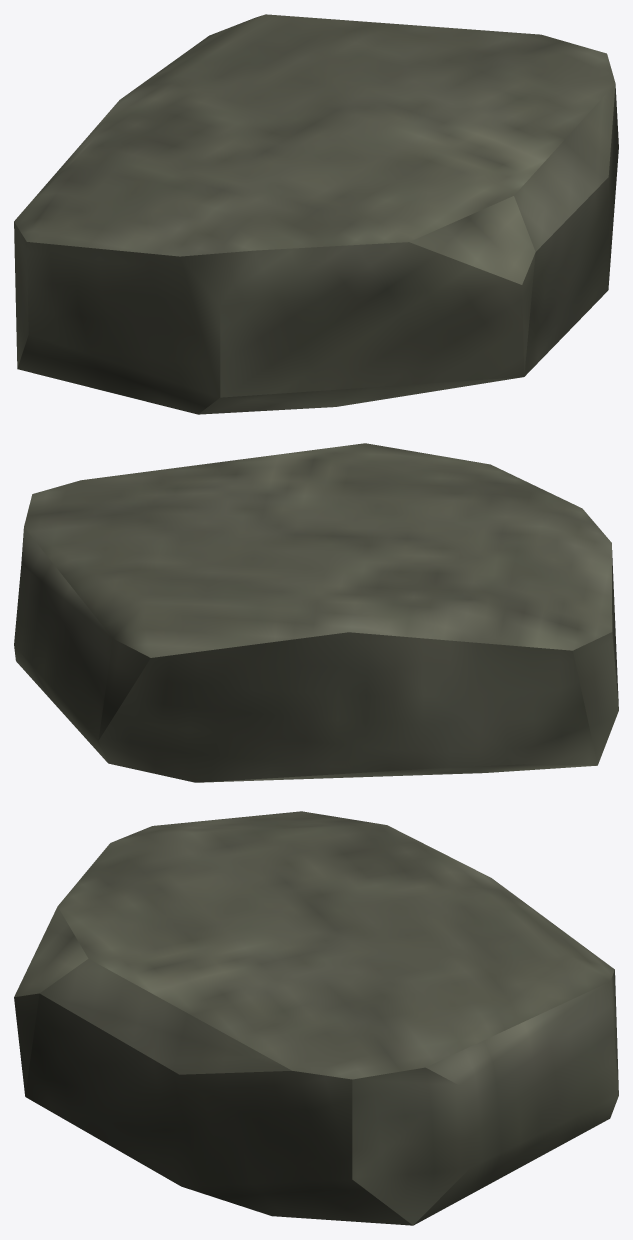
The model's file is Rock_12.fbx.
The picture shows the model from 3 angles, top to bottom: view 1: azimuth 30°, elevation 25°; view 2: azimuth 150°, elevation 25°; view 3: azimuth 270°, elevation 25°; orthographic projection. The views are drawn at different scales.
Parts seen in each view (by area): view 1: Rock_12; view 2: Rock_12; view 3: Rock_12.
Boxes of the visible parts, bbox=[...] form: Rock_12: bbox=[14, 14, 618, 414]; Rock_12: bbox=[14, 443, 618, 782]; Rock_12: bbox=[14, 811, 618, 1225].
Bounding box in the file's own units: 254 × 75.41 × 219.
1 material, 1 textured.
